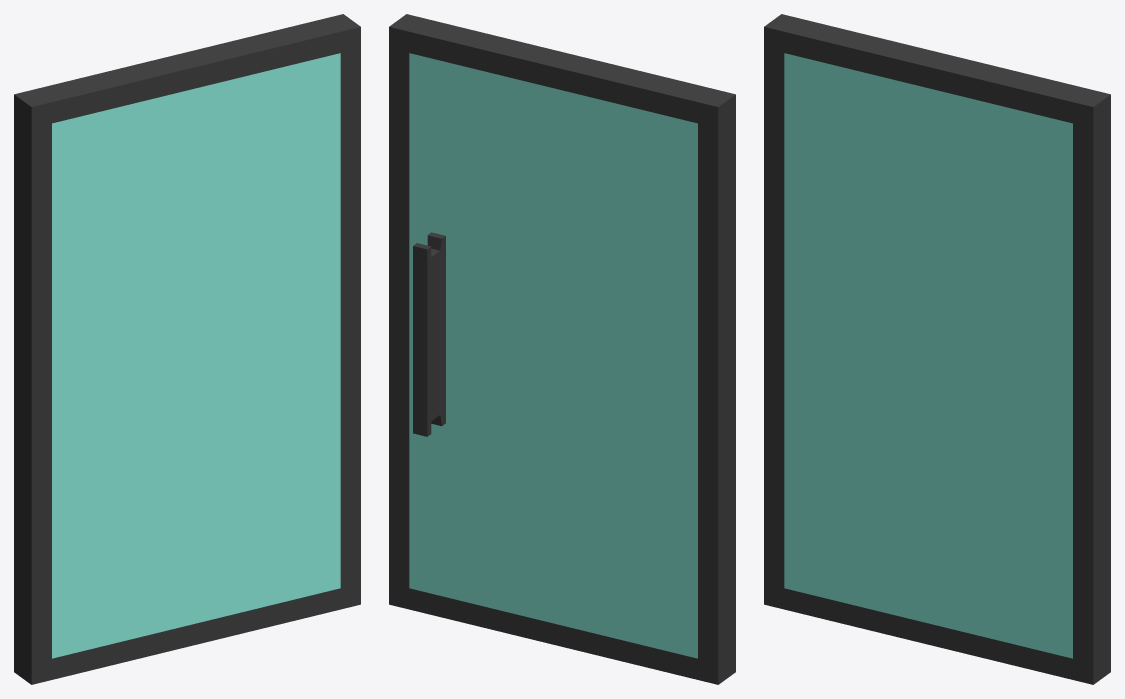
The model's file is npchome@in_close_s.FBX.
3 views of the same model, side by side, from view 1: azimuth 30°, elevation 25°; view 2: azimuth 150°, elevation 25°; view 3: azimuth 330°, elevation 25° (orthographic).
Visible parts, largest first — view 1: Object003; view 2: Object003; view 3: Object003.
Boxes of the visible parts, left/top/right/bottom form: Object003: left=14, top=14, right=360, bottom=684; Object003: left=389, top=14, right=735, bottom=684; Object003: left=764, top=14, right=1110, bottom=684.
Bounding box in the file's own units: 9.98 × 16.72 × 1.89.
